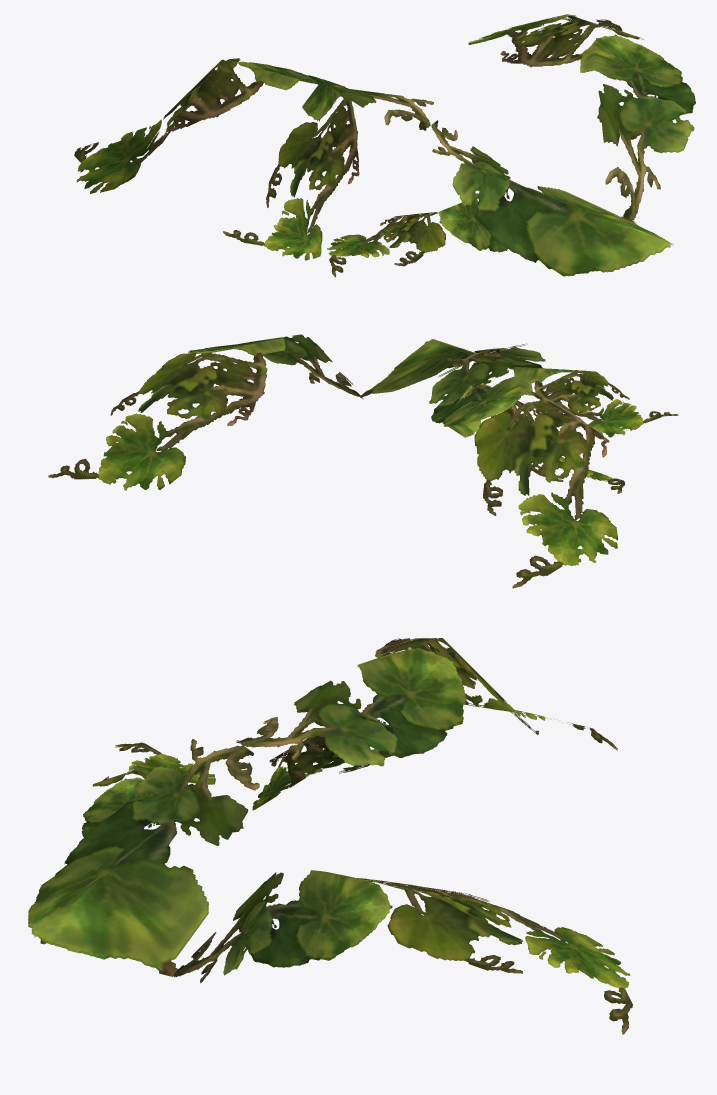
The model's file is wm_蔬菜南瓜03.fbx.
3 views of the same model, one above another, from view 1: azimuth 30°, elevation 25°; view 2: azimuth 150°, elevation 25°; view 3: azimuth 270°, elevation 25° (orthographic). The views are drawn at different scales.
Visible parts, largest first — view 1: wm_蔬菜南瓜03; view 2: wm_蔬菜南瓜03; view 3: wm_蔬菜南瓜03.
Part boxes in pixels (bbox=[...]): wm_蔬菜南瓜03: bbox=[74, 14, 695, 277]; wm_蔬菜南瓜03: bbox=[48, 334, 678, 588]; wm_蔬菜南瓜03: bbox=[28, 638, 632, 1034].
Size of the model in its own units: 426 by 95.12 by 338.
